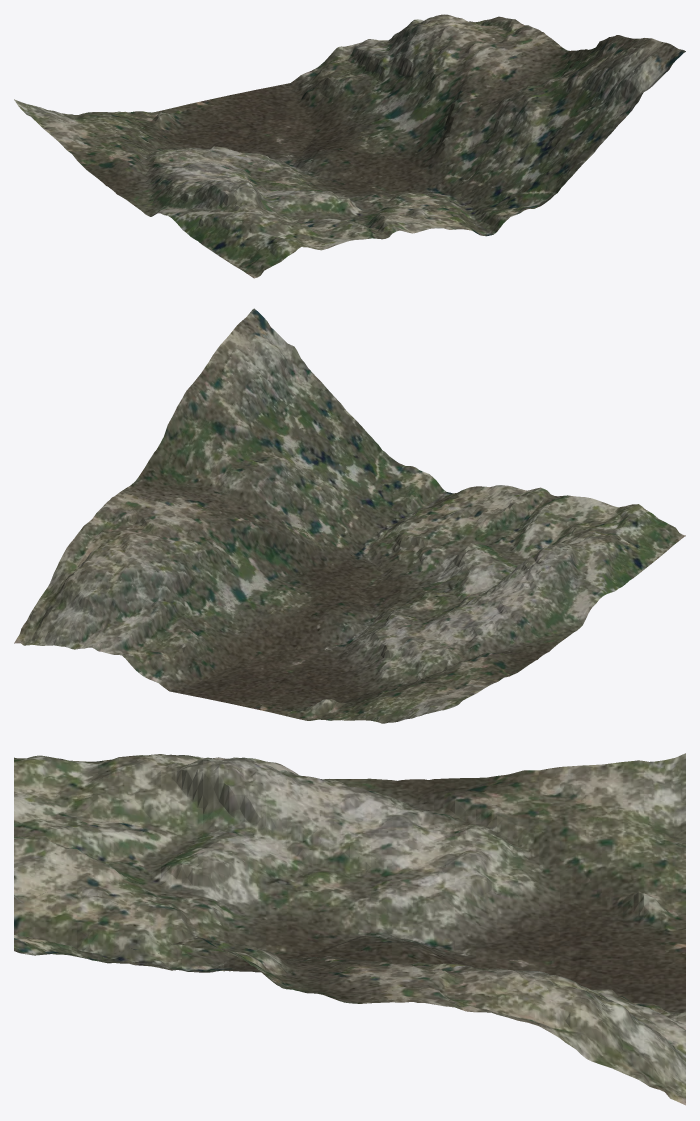
3 views of the same model, one above another, from view 1: azimuth 30°, elevation 25°; view 2: azimuth 150°, elevation 25°; view 3: azimuth 270°, elevation 25° (orthographic). The views are drawn at different scales.
Size of the model in its own units: 500 by 188 by 481.
Materials: 1 (1 with a texture image).
